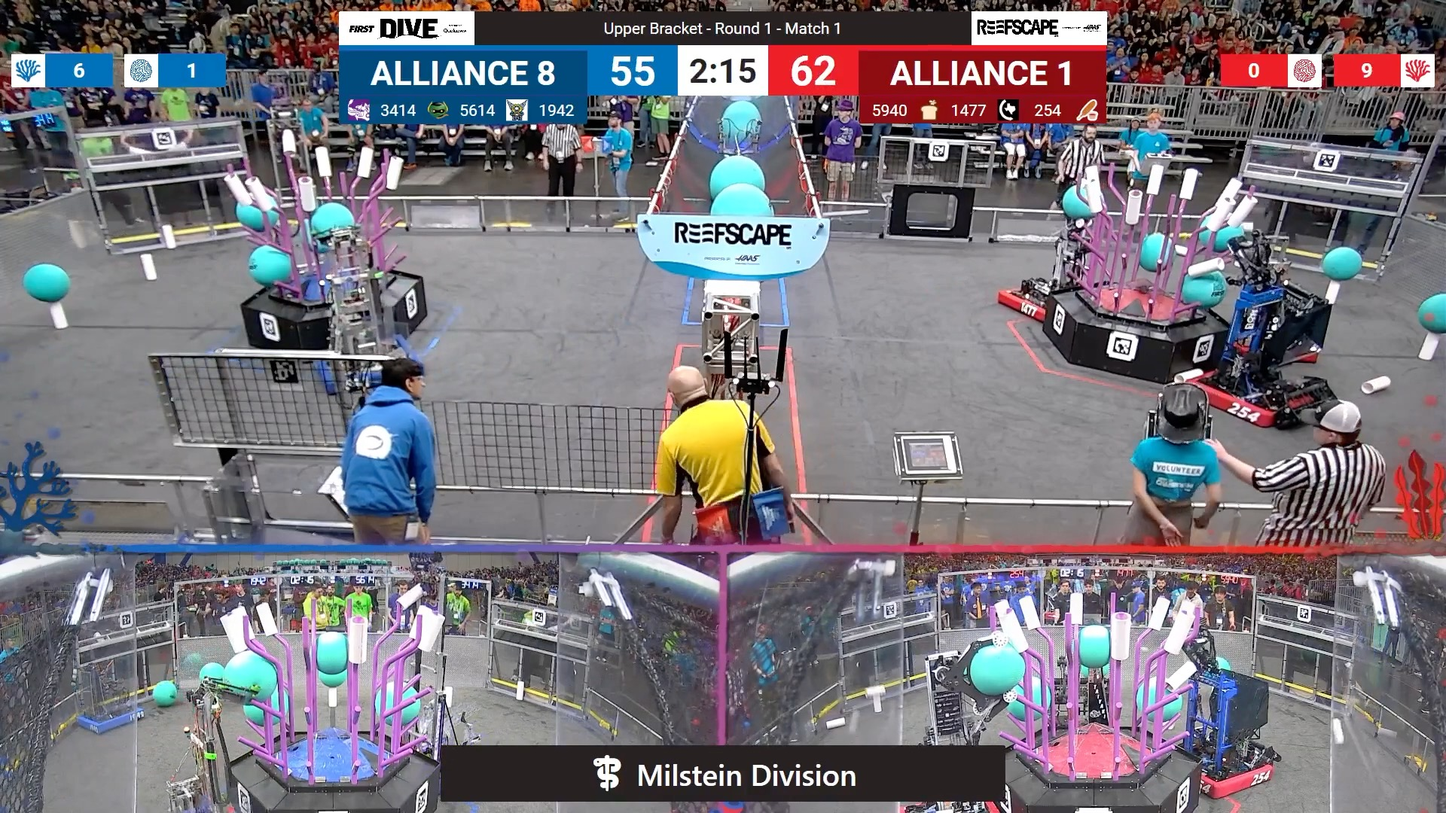bumpers: (1177, 367, 1339, 435), (308, 335, 431, 396), (1171, 745, 1285, 797), (990, 268, 1072, 329), (1213, 329, 1338, 369), (71, 706, 152, 735)
